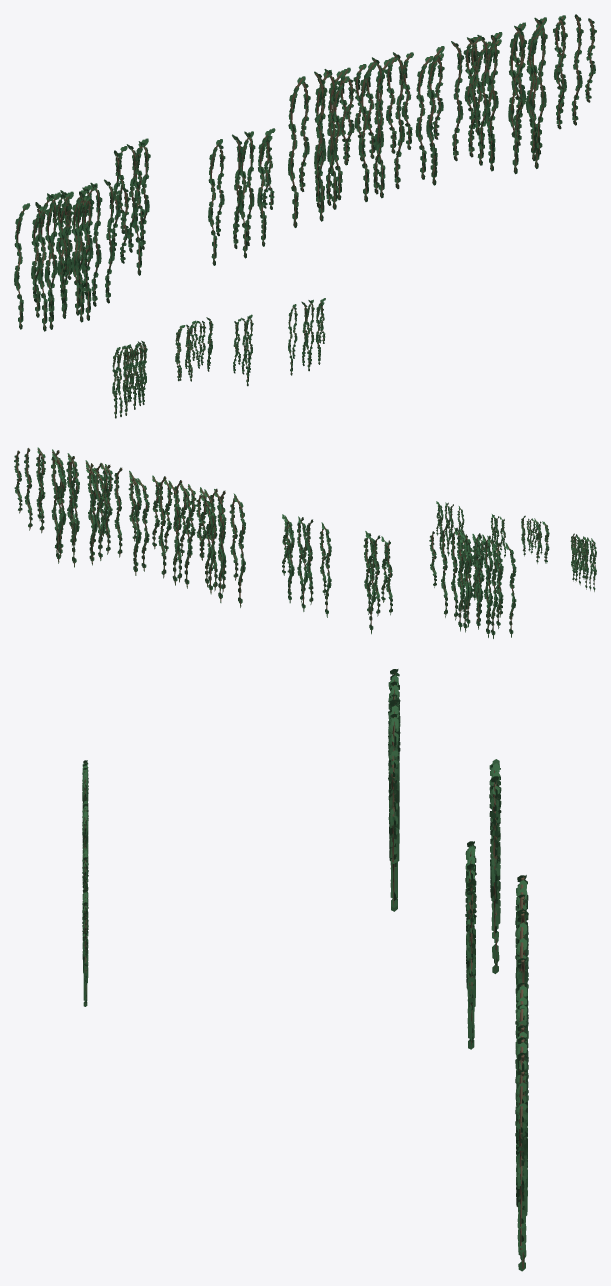
Rendered from vines.fbx.
3 renders of one model, top to bottom at view 1: azimuth 30°, elevation 25°; view 2: azimuth 150°, elevation 25°; view 3: azimuth 270°, elevation 25°, orthographic. The views are drawn at different scales.
Parts seen in each view (by area): view 1: vines_f_big, vines_a_big, vines_e__big, vines_d__big, vines_b, vines_e_1, vines_c, vines_d; view 2: vines_f_big, vines_a_big, vines_e__big, vines_d__big, vines_b, vines_c, vines_e_1, vines_d; view 3: vines_f_big, vines_a_big, vines_d__big, vines_e__big.
Part boxes in pixels (left/top/right/bottom): vines_f_big: left=288, top=14, right=596, bottom=227; vines_a_big: left=14, top=179, right=130, bottom=331; vines_e__big: left=208, top=128, right=275, bottom=265; vines_d__big: left=111, top=138, right=150, bottom=275; vines_b: left=112, top=340, right=147, bottom=418; vines_e_1: left=288, top=298, right=325, bottom=375; vines_c: left=175, top=317, right=213, bottom=381; vines_d: left=233, top=314, right=253, bottom=386; vines_f_big: left=14, top=447, right=245, bottom=607; vines_a_big: left=429, top=525, right=516, bottom=638; vines_e__big: left=282, top=514, right=331, bottom=617; vines_d__big: left=363, top=531, right=392, bottom=634; vines_b: left=570, top=533, right=596, bottom=591; vines_c: left=521, top=515, right=549, bottom=563; vines_e_1: left=436, top=501, right=464, bottom=556; vines_d: left=490, top=514, right=505, bottom=565; vines_f_big: left=515, top=875, right=528, bottom=1271; vines_a_big: left=388, top=669, right=400, bottom=911; vines_d__big: left=489, top=759, right=501, bottom=973; vines_e__big: left=465, top=841, right=476, bottom=1049.
Size of the model in its own units: 1795 by 429 by 733.
